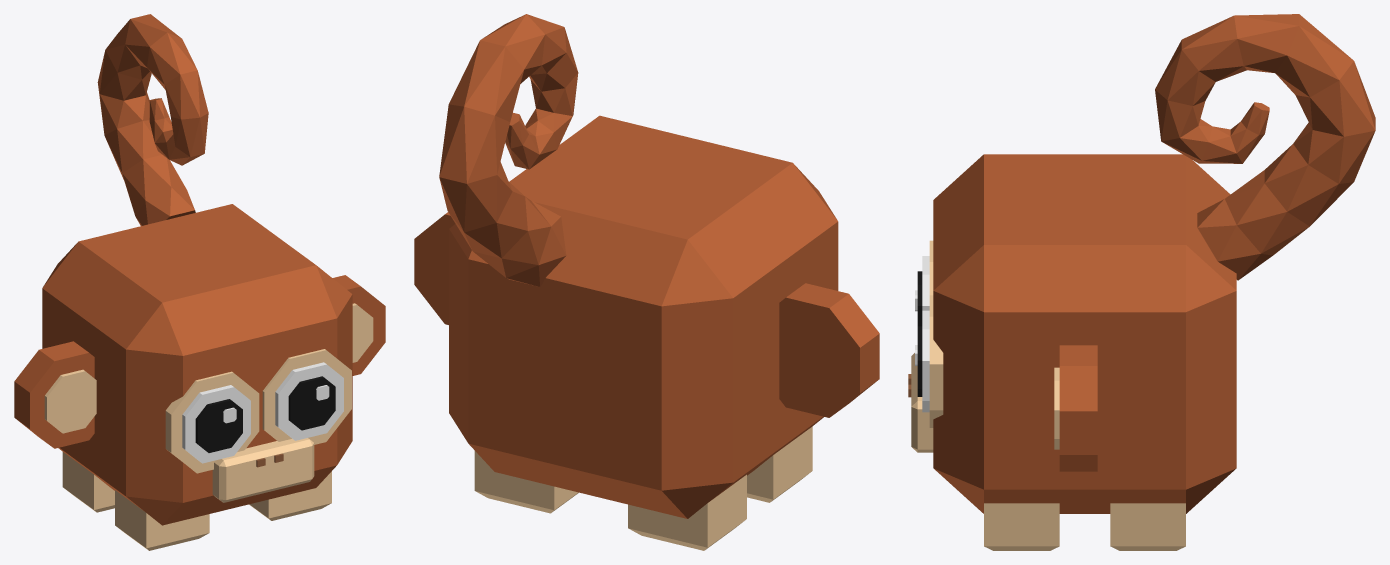
File: Monkey.fbx
3 renders of one model, left to right at view 1: azimuth 30°, elevation 25°; view 2: azimuth 150°, elevation 25°; view 3: azimuth 270°, elevation 25°, orthographic. The views are drawn at different scales.
Parts seen in each view (by area): view 1: Monkey, Monkey_Cream, Monkey_Tail, Monkey_Ears, Monkey_Eyes, Monkey_Pupils; view 2: Monkey, Monkey_Tail, Monkey_Ears, Monkey_Cream; view 3: Monkey, Monkey_Tail, Monkey_Cream, Monkey_Ears, Monkey_Eyes, Monkey_Pupils.
Boxes of the visible parts, x1,y1,x2,y2 form: Monkey: [42, 204, 352, 525]; Monkey_Cream: [44, 303, 373, 550]; Monkey_Tail: [97, 14, 208, 225]; Monkey_Ears: [14, 275, 385, 448]; Monkey_Eyes: [182, 362, 343, 463]; Monkey_Pupils: [195, 376, 335, 452]; Monkey: [449, 115, 838, 518]; Monkey_Tail: [439, 14, 578, 286]; Monkey_Ears: [414, 212, 879, 417]; Monkey_Cream: [474, 426, 812, 550]; Monkey: [933, 154, 1236, 513]; Monkey_Tail: [1155, 14, 1375, 280]; Monkey_Cream: [911, 240, 1185, 550]; Monkey_Ears: [1059, 345, 1097, 471]; Monkey_Eyes: [915, 256, 929, 412]; Monkey_Pupils: [917, 271, 922, 396].
Size of the model in its own units: 3.14 by 3.52 by 2.96.
